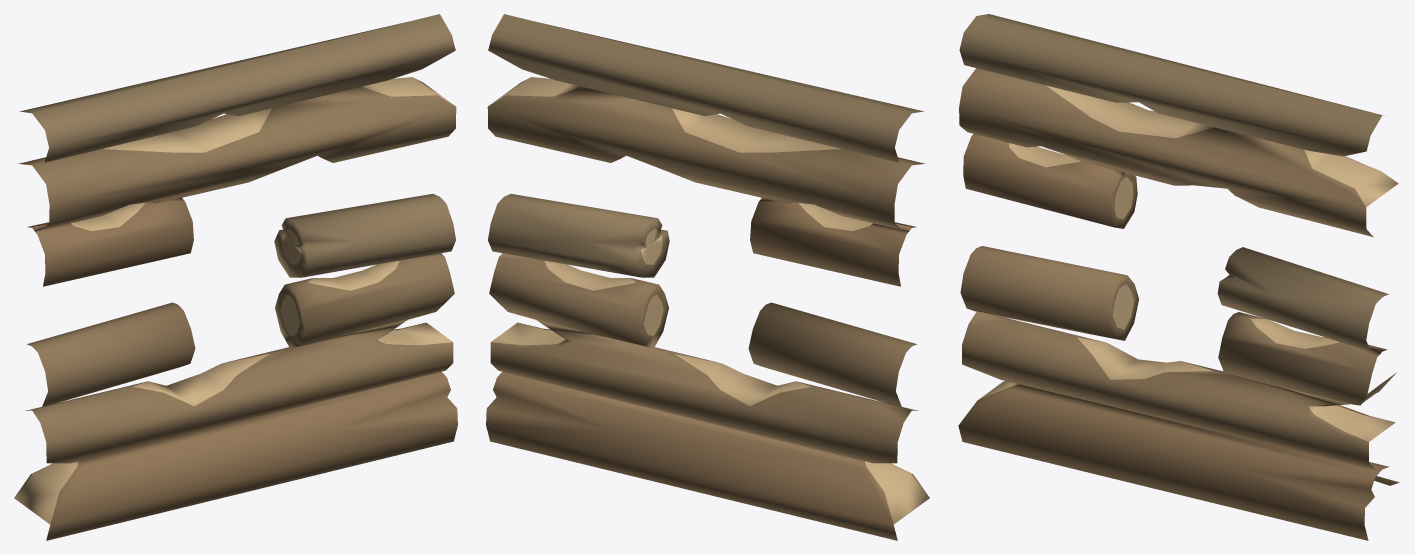
File: rpgpp_av_wall_03_3x3_window_03b.gltf
3 views of the same model, side by side, from view 1: azimuth 30°, elevation 25°; view 2: azimuth 150°, elevation 25°; view 3: azimuth 330°, elevation 25° (orthographic).
Visible parts, largest first — view 1: rpgpp_av_wall_03_3x3_window_03b; view 2: rpgpp_av_wall_03_3x3_window_03b; view 3: rpgpp_av_wall_03_3x3_window_03b.
Boxes of the visible parts, x1,y1,x2,y2 form: rpgpp_av_wall_03_3x3_window_03b: (14,14,457,540); rpgpp_av_wall_03_3x3_window_03b: (486,14,929,540); rpgpp_av_wall_03_3x3_window_03b: (958,14,1399,540).
Bounding box in the file's own units: 0.03 × 0.03 × 0.00463.
Materials: 1 (1 with a texture image).
